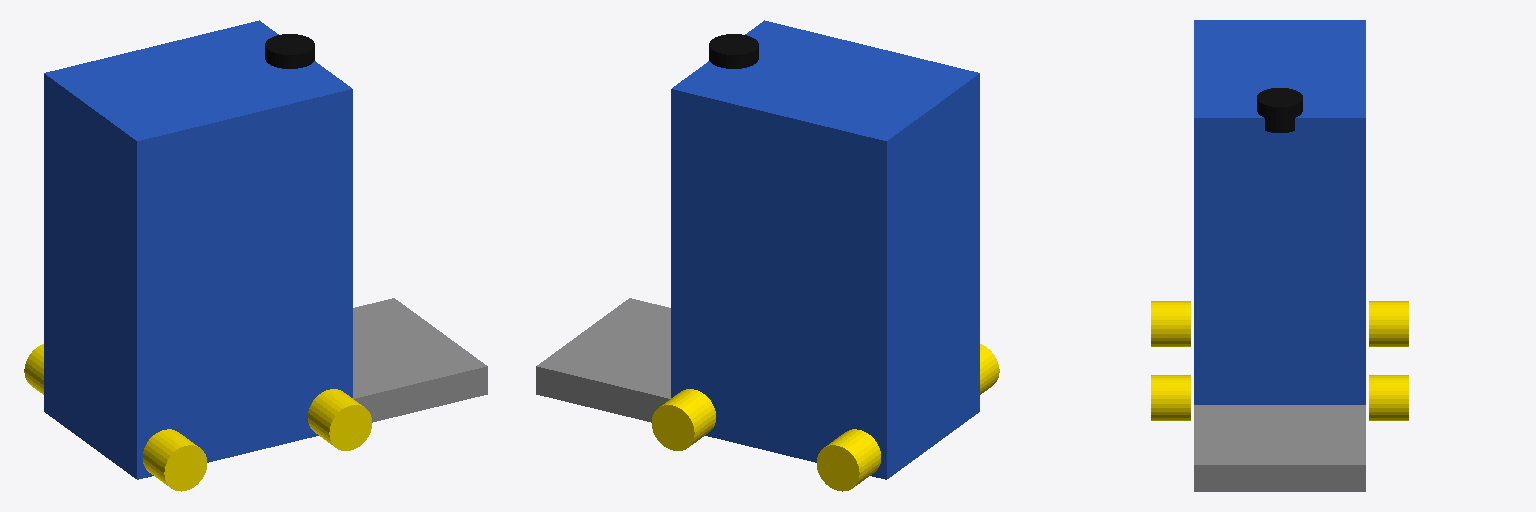
The robot description file, URDF, robot "forklift_no_mast":
<?xml version="1.0"?>
<robot name="forklift_no_mast">

  <!-- base_link -->
  <link name="base_link">
    <visual>
      <origin xyz="0 0 0.30" rpy="0 0 0"/>
      <geometry>
        <box size="0.40 0.30 0.60"/>
      </geometry>
      <material name="blue">
        <color rgba="0.2 0.4 0.8 1.0"/>
      </material>
    </visual>
    <collision>
      <origin xyz="0 0 0.30" rpy="0 0 0"/>
      <geometry>
        <box size="0.40 0.30 0.60"/>
      </geometry>
    </collision>
    <inertial>
      <mass value="20"/>
      <inertia ixx="1" iyy="1" izz="1" ixy="0" ixz="0" iyz="0"/>
    </inertial>
  </link>

  <!-- IMU -->
  <link name="imu_link"/>
  <joint name="base_to_imu" type="fixed">
    <parent link="base_link"/>
    <child link="imu_link"/>
    <origin xyz="0 0 0" rpy="0 0 0"/>
  </joint>

  <!-- LiDAR -->
  <link name="laser">
    <visual>
      <origin xyz="0 0 0" rpy="0 0 0"/>
      <geometry>
        <cylinder radius="0.04" length="0.05"/>
      </geometry>
      <material name="black">
        <color rgba="0.1 0.1 0.1 1.0"/>
      </material>
    </visual>
    <collision>
      <origin xyz="0 0 0" rpy="0 0 0"/>
      <geometry>
        <cylinder radius="0.04" length="0.05"/>
      </geometry>
    </collision>
    <inertial>
      <mass value="0.5"/>
      <inertia ixx="0.01" iyy="0.01" izz="0.01" ixy="0" ixz="0" iyz="0"/>
    </inertial>
  </link>
  <joint name="base_to_laser" type="fixed">
    <parent link="base_link"/>
    <child link="laser"/>
    <origin xyz="0.17 0 0.60" rpy="0 0 0"/>
  </joint>

  <!-- Fork (no mast) -->
  <link name="forks_link">
    <visual>
      <origin xyz="0 0 0" rpy="0 0 0"/>
      <geometry>
        <box size="0.25 0.30 0.05"/>
      </geometry>
      <material name="grey">
        <color rgba="0.6 0.6 0.6 1.0"/>
      </material>
    </visual>
    <collision>
      <origin xyz="0 0 0" rpy="0 0 0"/>
      <geometry>
        <box size="0.25 0.30 0.05"/>
      </geometry>
    </collision>
    <inertial>
      <mass value="2"/>
      <inertia ixx="0.1" iyy="0.1" izz="0.1" ixy="0" ixz="0" iyz="0"/>
    </inertial>
  </link>
  <joint name="base_to_forks" type="fixed">
    <parent link="base_link"/>
    <child link="forks_link"/>
    <!-- x = 0.40/2 + 0.0 + 0.25/2 = 0.325, z = 0.05/2 = 0.025 -->
    <origin xyz="0.325 0 0.025" rpy="0 0 0"/>
  </joint>

  <!-- Wheels (fixed for visualization) -->
  <!-- Front Left -->
  <link name="wheel_left_front">
    <visual>
      <origin xyz="0 0 0" rpy="1.57079632679 0 0"/>
      <geometry>
        <cylinder radius="0.04" length="0.07"/>
      </geometry>
      <material name="yellow">
        <color rgba="1 0.9 0 1"/>
      </material>
    </visual>
  </link>
  <joint name="base_to_wheel_left_front" type="fixed">
    <parent link="base_link"/>
    <child link="wheel_left_front"/>
    <origin xyz="0.153 0.190 0.04" rpy="0 0 0"/>
  </joint>

  <!-- Rear Left -->
  <link name="wheel_left_rear">
    <visual>
      <origin xyz="0 0 0" rpy="1.57079632679 0 0"/>
      <geometry>
        <cylinder radius="0.04" length="0.07"/>
      </geometry>
      <material name="yellow">
        <color rgba="1 0.9 0 1"/>
      </material>
    </visual>
  </link>
  <joint name="base_to_wheel_left_rear" type="fixed">
    <parent link="base_link"/>
    <child link="wheel_left_rear"/>
    <origin xyz="-0.153 0.190 0.04" rpy="0 0 0"/>
  </joint>

  <!-- Front Right -->
  <link name="wheel_right_front">
    <visual>
      <origin xyz="0 0 0" rpy="1.57079632679 0 0"/>
      <geometry>
        <cylinder radius="0.04" length="0.07"/>
      </geometry>
      <material name="yellow">
        <color rgba="1 0.9 0 1"/>
      </material>
    </visual>
  </link>
  <joint name="base_to_wheel_right_front" type="fixed">
    <parent link="base_link"/>
    <child link="wheel_right_front"/>
    <origin xyz="0.153 -0.190 0.04" rpy="0 0 0"/>
  </joint>

  <!-- Rear Right -->
  <link name="wheel_right_rear">
    <visual>
      <origin xyz="0 0 0" rpy="1.57079632679 0 0"/>
      <geometry>
        <cylinder radius="0.04" length="0.07"/>
      </geometry>
      <material name="yellow">
        <color rgba="1 0.9 0 1"/>
      </material>
    </visual>
  </link>
  <joint name="base_to_wheel_right_rear" type="fixed">
    <parent link="base_link"/>
    <child link="wheel_right_rear"/>
    <origin xyz="-0.153 -0.190 0.04" rpy="0 0 0"/>
  </joint>

</robot>

--- What the picture shows (computed from the rendered views, not written in the file) ---
3 views of the same robot in one strip: view 1: azimuth 30°, elevation 25°; view 2: azimuth 150°, elevation 25°; view 3: azimuth 270°, elevation 25° (orthographic).
Model forklift_no_mast with 8 links and 7 joints (7 fixed), rooted at base_link, posed all joints at 0.
Visible links, largest first — view 1: base_link, forks_link, wheel_right_rear, wheel_right_front, laser, wheel_left_rear; view 2: base_link, forks_link, wheel_left_rear, wheel_left_front, laser, wheel_right_rear; view 3: base_link, forks_link, wheel_left_front, wheel_left_rear, wheel_right_front, wheel_right_rear, laser.
Link boxes in pixels (x1,y1,x2,y2): base_link: [44, 20, 352, 479]; forks_link: [353, 298, 487, 422]; wheel_right_rear: [143, 429, 206, 491]; wheel_right_front: [308, 389, 371, 450]; laser: [265, 34, 314, 68]; wheel_left_rear: [24, 344, 43, 394]; base_link: [671, 20, 979, 479]; forks_link: [536, 298, 670, 422]; wheel_left_rear: [817, 429, 880, 491]; wheel_left_front: [652, 389, 715, 450]; laser: [709, 34, 758, 68]; wheel_right_rear: [980, 344, 999, 394]; base_link: [1194, 20, 1365, 404]; forks_link: [1194, 405, 1365, 491]; wheel_left_front: [1369, 375, 1408, 420]; wheel_left_rear: [1369, 301, 1408, 346]; wheel_right_front: [1151, 375, 1190, 420]; wheel_right_rear: [1151, 301, 1190, 346]; laser: [1257, 88, 1302, 132].
Bounding box of the posed robot: 0.65 × 0.45 × 0.625 m (x, y, z).
Geometry: primitives only (box / cylinder / sphere), no mesh files.